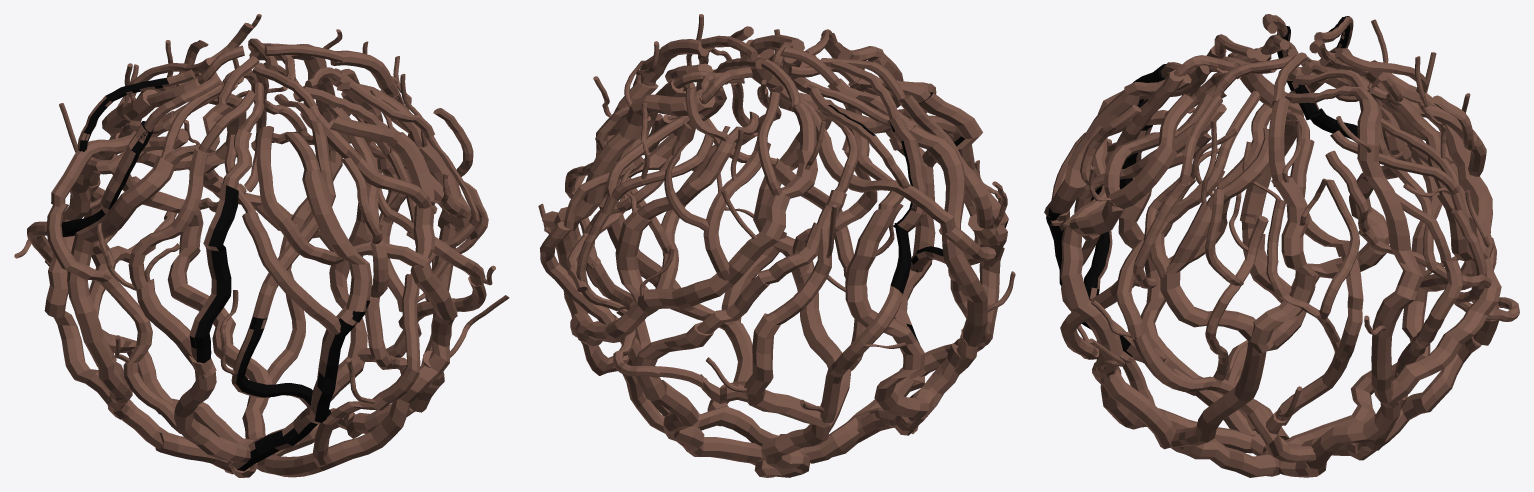
File: Tumbleweed.fbx
The picture shows the model from 3 angles, left to right: view 1: azimuth 30°, elevation 25°; view 2: azimuth 150°, elevation 25°; view 3: azimuth 270°, elevation 25°; orthographic projection. The views are drawn at different scales.
Parts seen in each view (by area): view 1: Root_Tumbleweed; view 2: Root_Tumbleweed; view 3: Root_Tumbleweed.
Part boxes in pixels (x1,y1,x2,y2): Root_Tumbleweed: (14,14,509,477); Root_Tumbleweed: (538,14,1015,477); Root_Tumbleweed: (1044,14,1519,477).
Bounding box in the file's own units: 34.44 × 33.62 × 34.52.
